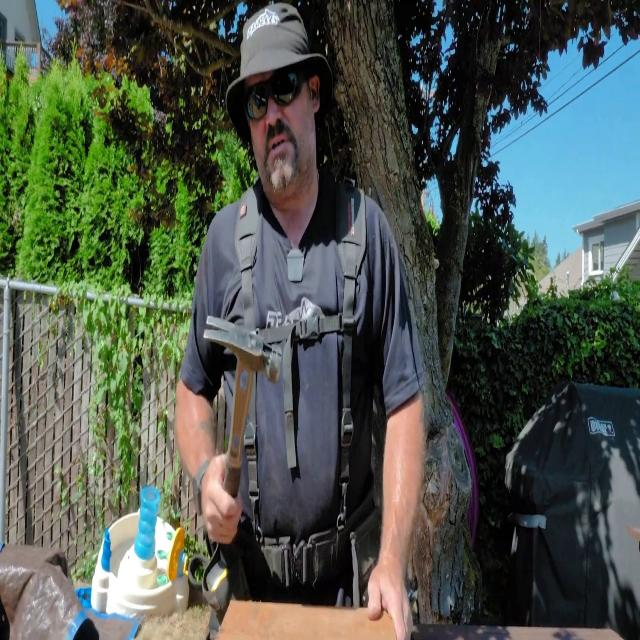hammer: (203, 316, 282, 500)
